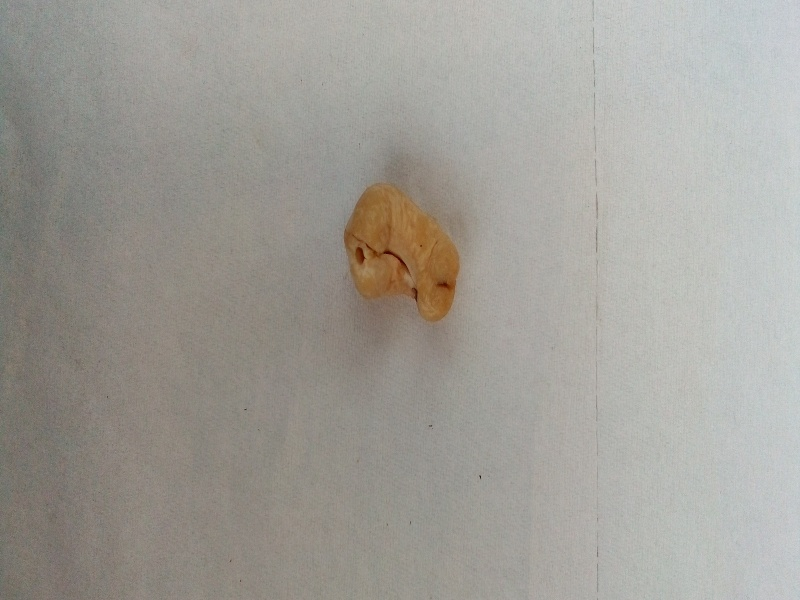cashew: (325, 155, 483, 330)
